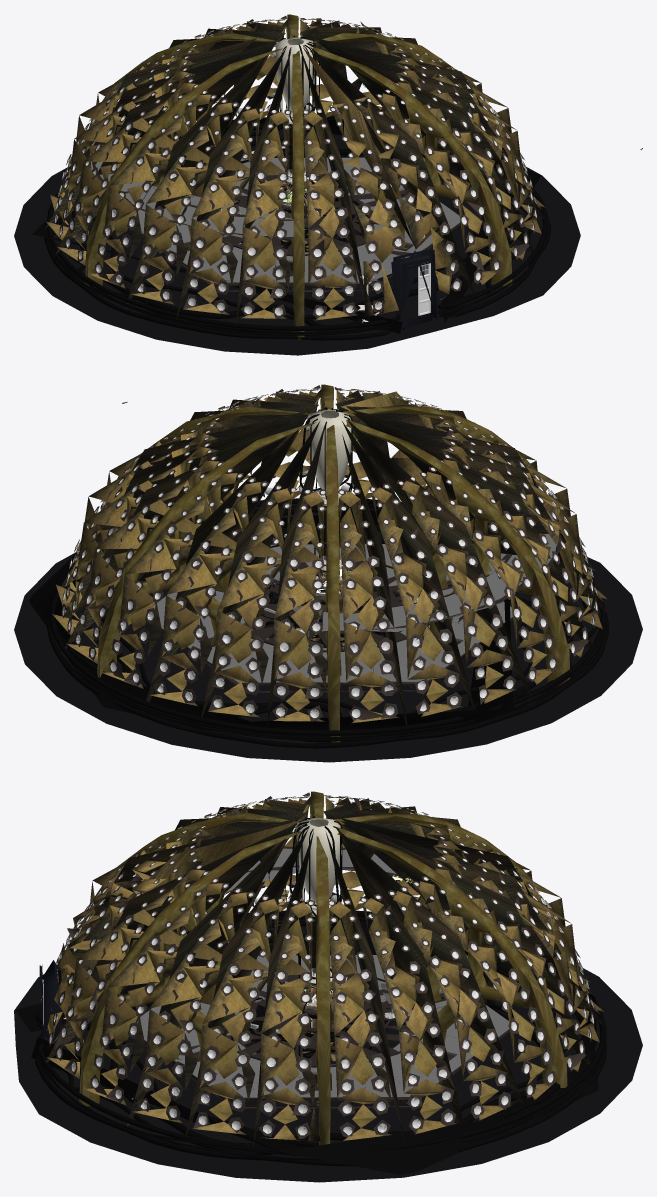
The picture shows the model from 3 angles, top to bottom: view 1: azimuth 30°, elevation 25°; view 2: azimuth 150°, elevation 25°; view 3: azimuth 270°, elevation 25°; orthographic projection. The views are drawn at different scales.
Parts seen in each view (by area): view 1: Static14, Static55, Static15, Static6, Static0, Static16, Static7, Static8, Static3, Static1, Static2, Door; view 2: Static14, Static55, Static15, Static0, Static6, Static16, Static7, Static8, Static3, Static2; view 3: Static14, Static55, Static15, Static0, Static6, Static16, Static7, Static8, Static3, Static2, Static1.
Boxes of the visible parts, box(x1,y1,x2,y2) form: Static14: box(45, 19, 545, 326); Static55: box(14, 129, 580, 355); Static15: box(50, 16, 541, 318); Static6: box(85, 14, 512, 339); Static0: box(32, 115, 550, 340); Static16: box(55, 18, 536, 315); Static7: box(90, 141, 460, 283); Static8: box(88, 141, 460, 298); Static3: box(45, 36, 642, 333); Static1: box(391, 249, 437, 328); Static2: box(275, 37, 314, 112); Door: box(418, 263, 430, 315); Static14: box(52, 389, 608, 740); Static55: box(14, 498, 642, 762); Static15: box(61, 385, 603, 721); Static0: box(29, 498, 608, 748); Static6: box(97, 384, 570, 742); Static16: box(62, 388, 597, 718); Static7: box(153, 509, 556, 683); Static8: box(161, 532, 561, 693); Static3: box(49, 402, 607, 738); Static2: box(308, 409, 351, 490); Static14: box(40, 796, 603, 1145); Static55: box(14, 911, 642, 1182); Static15: box(46, 792, 599, 1139); Static0: box(15, 908, 606, 1174); Static6: box(72, 791, 567, 1145); Static16: box(49, 795, 593, 1135); Static7: box(137, 849, 509, 1097); Static8: box(118, 846, 510, 1108); Static3: box(36, 816, 603, 1156); Static2: box(295, 818, 341, 903); Static1: box(39, 960, 332, 1044).
Size of the model in its own units: 22.52 by 8.48 by 20.99.
57 materials, 18 textured.
